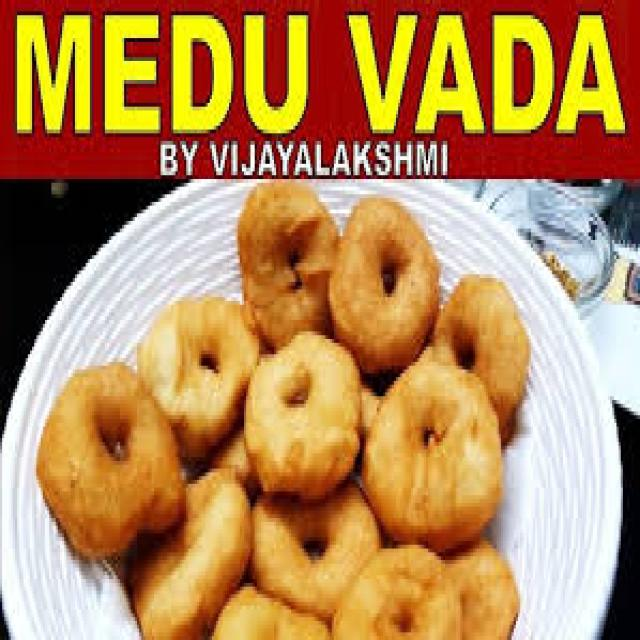MEDU VADA: (36, 362, 184, 556), (362, 347, 499, 545), (39, 366, 182, 552), (133, 469, 250, 636), (137, 297, 259, 457), (327, 198, 439, 370), (244, 331, 357, 495), (332, 541, 518, 636), (250, 484, 381, 617), (432, 274, 529, 442), (242, 179, 338, 347), (212, 587, 327, 636)
